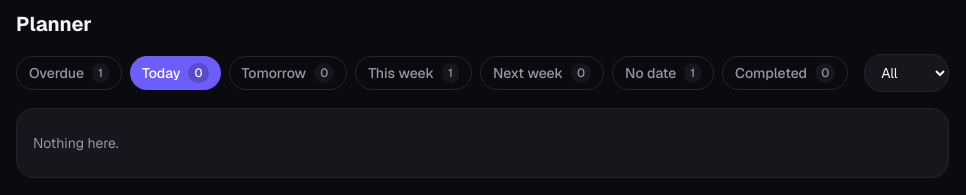
Test: PlannerPage › buckets items into tabs by due date and shows each tab's count
Expected: the button "This week 1" is shown, [355, 56, 472, 90]
Expected: the button "No date 1" is shown, [612, 56, 714, 90]
Click the button "Overdue 1" at (69, 73), box [16, 56, 122, 90]
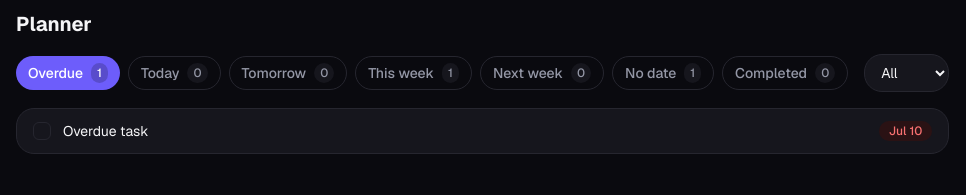
Now the text "Overdue task" is shown, box [63, 122, 148, 140]
Click the button "This week 1" at (414, 73), box [355, 56, 472, 90]
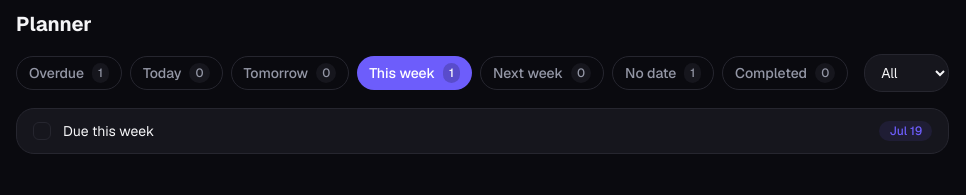
Now the text "Due this week" is shown, box [63, 122, 154, 140]
Click the button "No date 1" at (663, 73), box [612, 56, 714, 90]
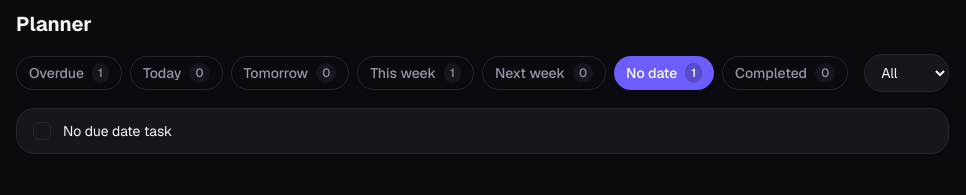
Now the text "No due date task" is shown, box [63, 122, 172, 140]
